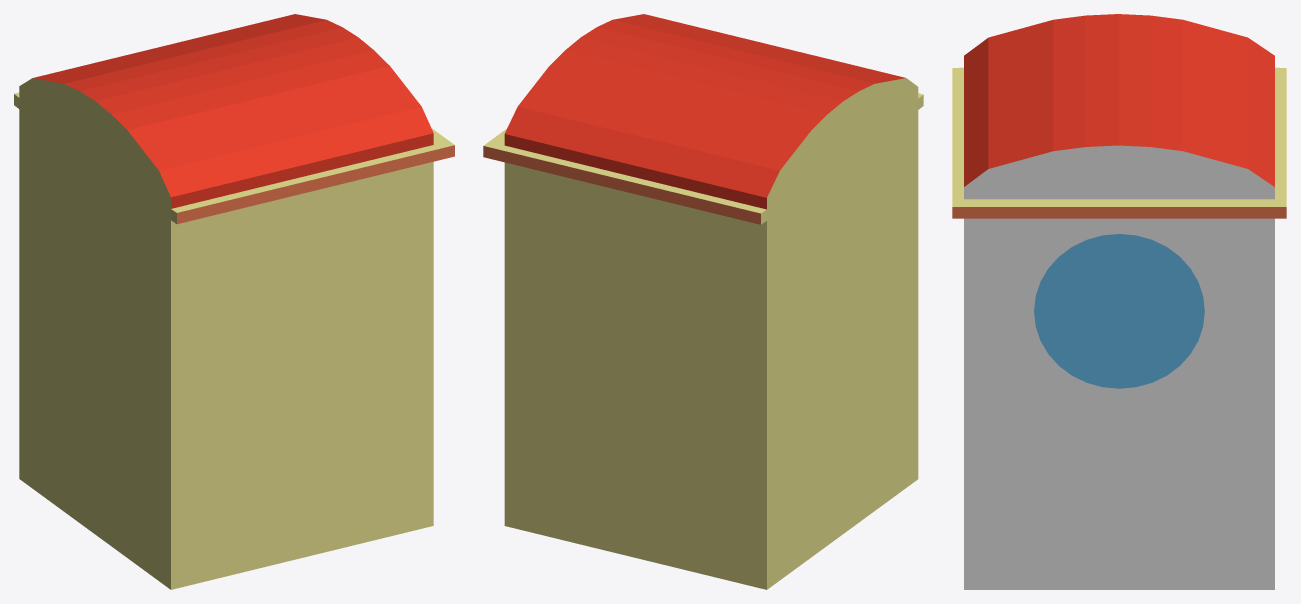
The model's file is HeavenSaureilHouse.fbx.
The picture shows the model from 3 angles, left to right: view 1: azimuth 30°, elevation 25°; view 2: azimuth 150°, elevation 25°; view 3: azimuth 270°, elevation 25°; orthographic projection. The views are drawn at different scales.
Parts seen in each view (by area): view 1: House; view 2: House; view 3: House, Window.
Boxes of the visible parts, <box> form: House: <box>14,14,454,589</box>; House: <box>483,14,923,589</box>; House: <box>952,14,1286,589</box>; Window: <box>1034,234,1204,388</box>.
Bounding box in the file's own units: 530 × 788 × 537.
